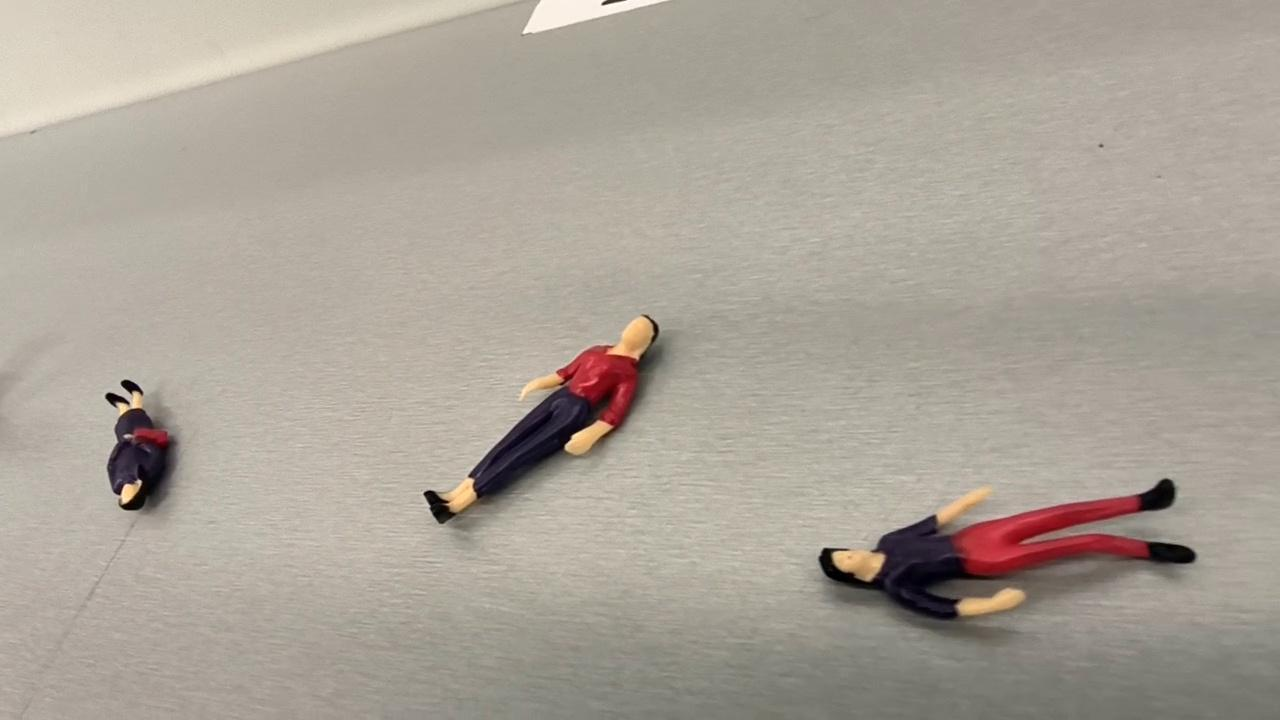human: (821, 480, 1198, 622), (425, 312, 659, 524), (101, 376, 175, 514)
